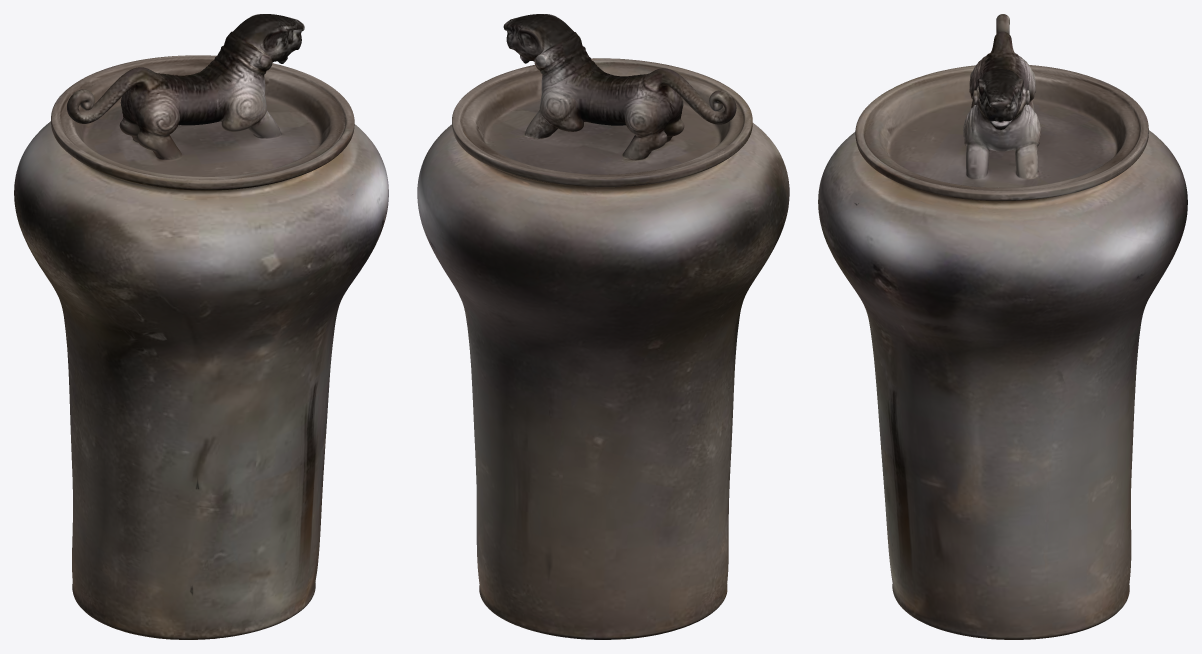
Rendered from huniu-web.glb.
The picture shows the model from 3 angles, left to right: view 1: azimuth 30°, elevation 25°; view 2: azimuth 150°, elevation 25°; view 3: azimuth 270°, elevation 25°; orthographic projection.
Parts seen in each view (by area): view 1: node_0; view 2: node_0; view 3: node_0.
Boxes of the visible parts, bbox=[...] form: node_0: bbox=[14, 14, 388, 639]; node_0: bbox=[417, 14, 789, 639]; node_0: bbox=[818, 14, 1187, 639].
Size of the model in its own units: 0.675 by 1.11 by 0.6797.
1 material, 1 textured.
